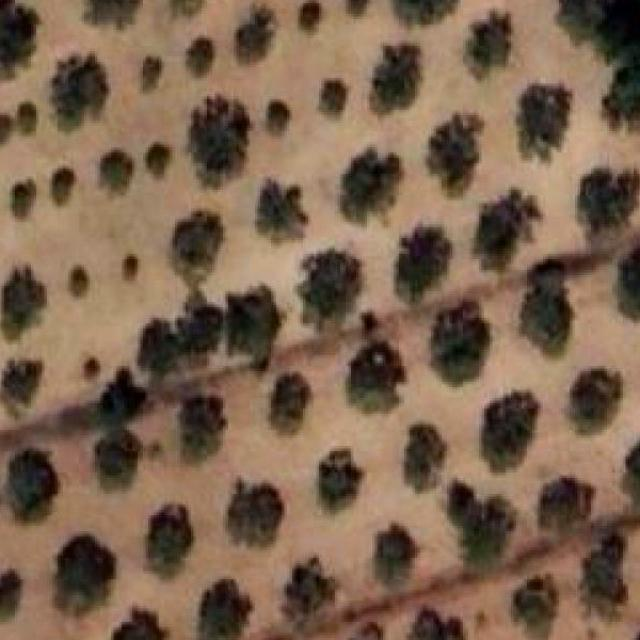Tree: (560, 0, 640, 127), (447, 482, 516, 567), (187, 97, 250, 189), (471, 190, 540, 273), (431, 302, 490, 387), (225, 286, 282, 371), (302, 248, 361, 330), (53, 534, 113, 614), (481, 392, 540, 473), (340, 147, 402, 224), (427, 113, 484, 196), (395, 224, 452, 304), (518, 83, 572, 161), (171, 211, 223, 289), (52, 55, 106, 130), (348, 342, 404, 414), (577, 168, 640, 232), (225, 481, 282, 548), (7, 450, 58, 524), (519, 286, 572, 356), (283, 558, 335, 627), (0, 267, 47, 341), (255, 179, 308, 243), (146, 505, 193, 577), (197, 579, 252, 640), (176, 291, 223, 362), (370, 46, 418, 115), (581, 531, 625, 603), (570, 369, 618, 434), (0, 0, 40, 78), (404, 424, 447, 494), (510, 574, 556, 639), (92, 428, 140, 490), (466, 11, 509, 80), (181, 396, 225, 463), (371, 524, 417, 588), (97, 368, 145, 427), (538, 478, 591, 531), (318, 448, 361, 512), (269, 374, 310, 436), (136, 318, 177, 380), (0, 360, 39, 419), (236, 6, 273, 63), (410, 608, 466, 640), (109, 608, 165, 640), (617, 243, 640, 320), (83, 0, 143, 28), (392, 0, 463, 23), (99, 151, 132, 194), (0, 572, 24, 623), (625, 433, 640, 510), (318, 81, 345, 120), (11, 179, 36, 219), (187, 39, 214, 76), (144, 145, 170, 179), (265, 102, 289, 136), (50, 169, 71, 206), (344, 622, 385, 640), (163, 0, 209, 16), (16, 102, 36, 136), (68, 266, 88, 298), (299, 1, 321, 30), (143, 56, 159, 90), (121, 254, 138, 280), (83, 359, 100, 380), (347, 0, 369, 16), (0, 115, 10, 145)
